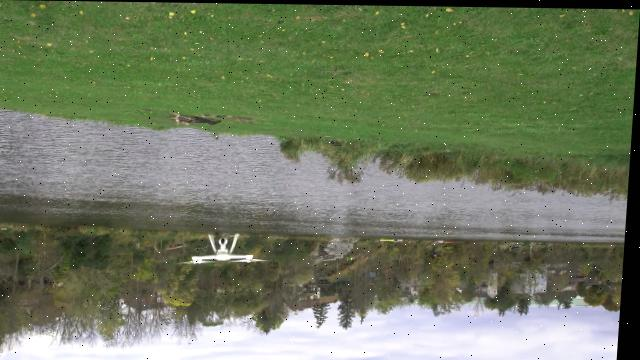drone: (182, 239, 270, 271)
